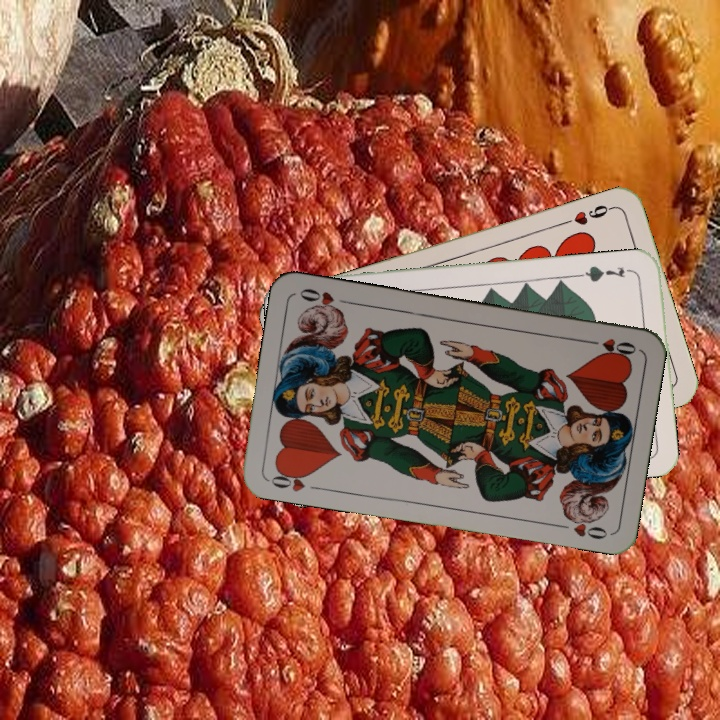G7: (577, 261, 637, 285)
H9: (559, 201, 617, 228)
HO: (581, 334, 639, 360), (265, 465, 314, 494)
